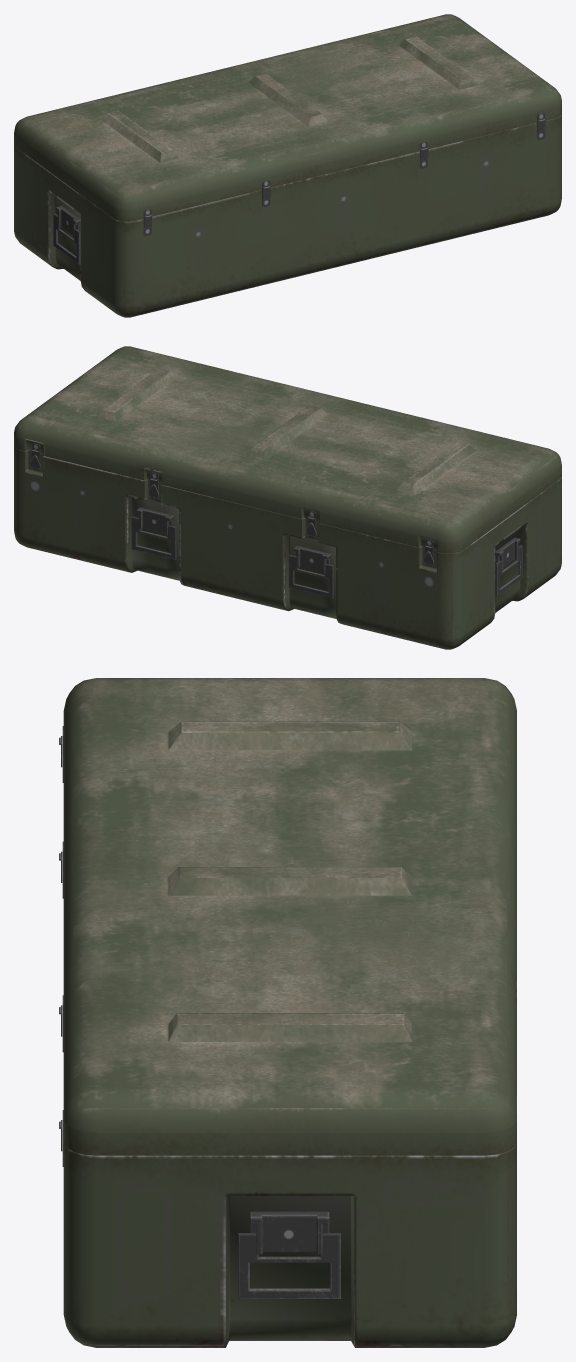
Rendered from SupplyCrates_01.fbx.
3 renders of one model, top to bottom at view 1: azimuth 30°, elevation 25°; view 2: azimuth 150°, elevation 25°; view 3: azimuth 270°, elevation 25°, orthographic. The views are drawn at different scales.
Visible parts, largest first — view 1: Cube.000; view 2: Cube.000; view 3: Cube.000.
Part boxes in pixels (x1,y1,x2,y2): Cube.000: [14, 14, 561, 317]; Cube.000: [14, 346, 561, 649]; Cube.000: [59, 678, 516, 1347].
Size of the model in its own units: 455 by 131 by 202.
